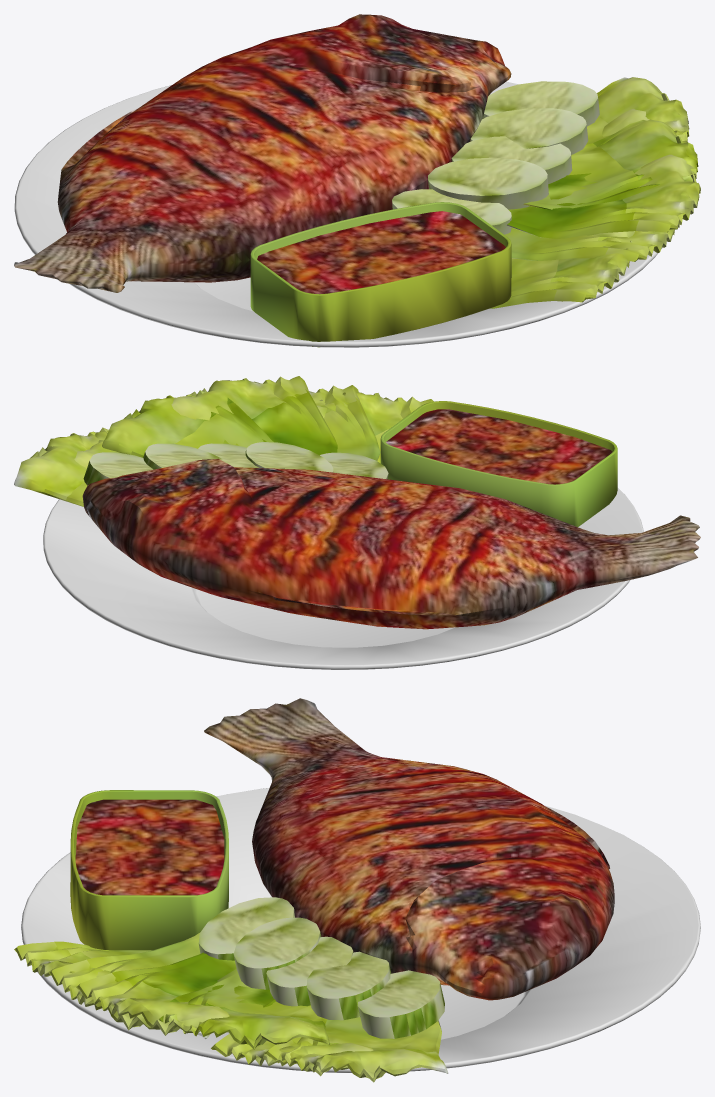
The model's file is seafood_scallops.glb.
3 renders of one model, top to bottom at view 1: azimuth 30°, elevation 25°; view 2: azimuth 150°, elevation 25°; view 3: azimuth 270°, elevation 25°, orthographic. The views are drawn at different scales.
Visible parts, largest first — view 1: Object_299, Object_297; view 2: Object_299, Object_297; view 3: Object_299, Object_297.
Boxes of the visible parts, box(x1,y1,x2,y2) form: Object_299: box(14, 14, 700, 347); Object_297: box(14, 81, 666, 347); Object_299: box(14, 376, 700, 629); Object_297: box(43, 488, 643, 669); Object_299: box(14, 698, 614, 1082); Object_297: box(21, 788, 700, 1072).
Bounding box in the file's own units: 2.78 × 0.5657 × 2.32.
Materials: 2 (1 with a texture image).
